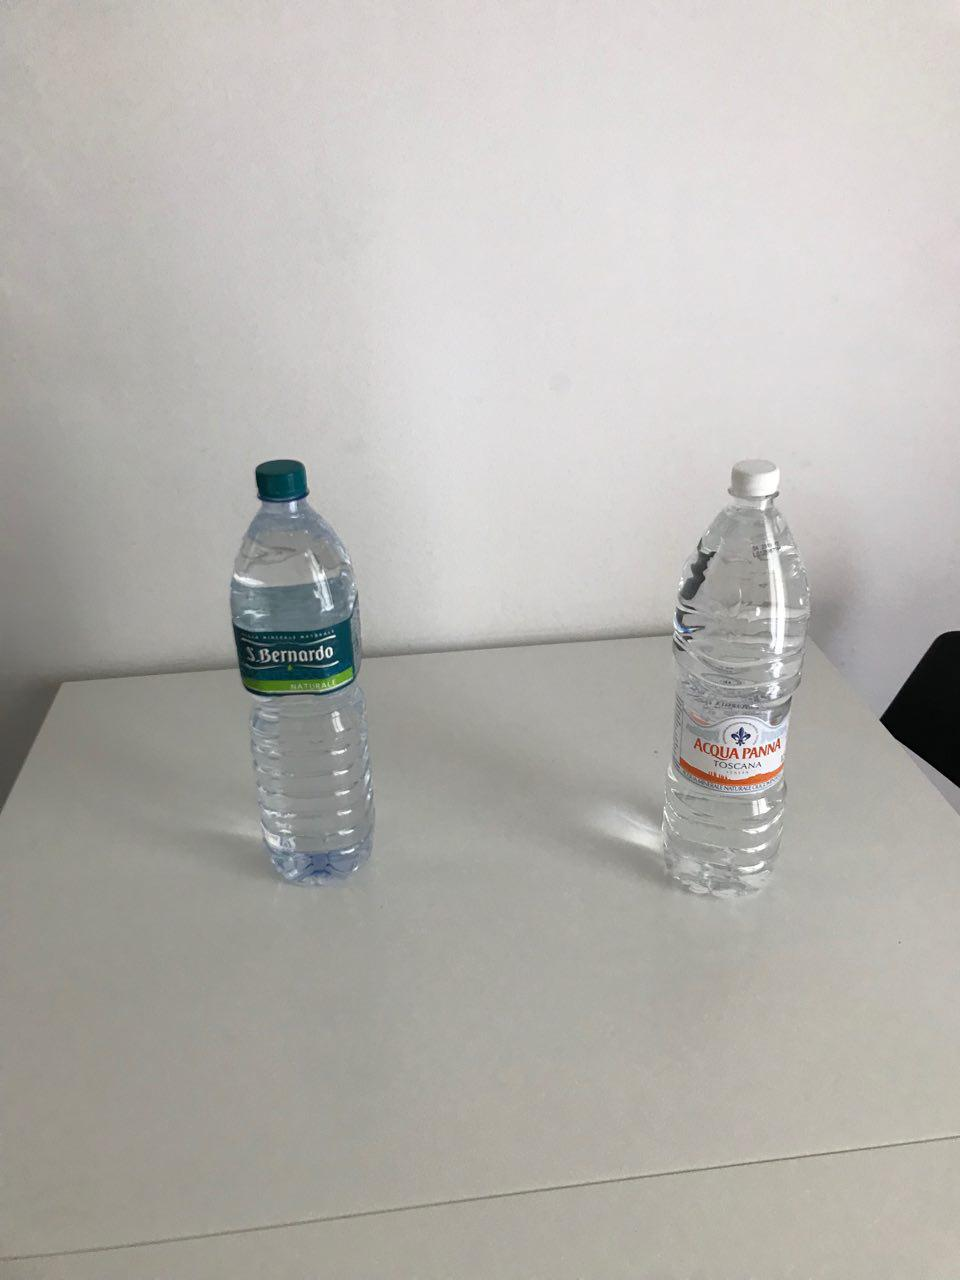san_bernardo: (229, 459, 376, 887)
